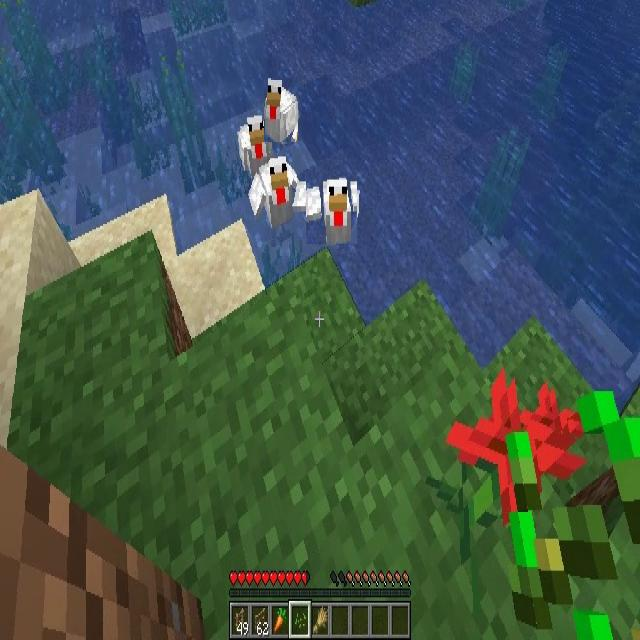duck: (306, 176, 357, 244), (250, 158, 299, 224), (264, 78, 298, 142), (238, 116, 273, 169)
